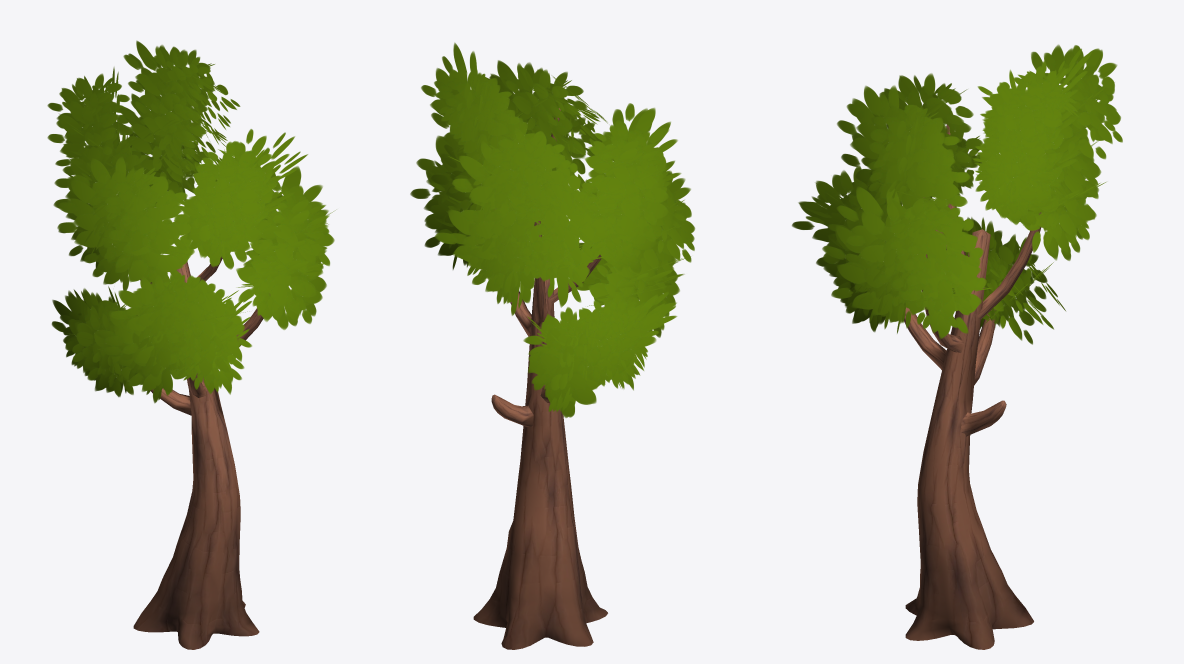
Rendered from tree_c.glb.
3 views of the same model, side by side, from view 1: azimuth 30°, elevation 25°; view 2: azimuth 150°, elevation 25°; view 3: azimuth 270°, elevation 25° (orthographic). The views are drawn at different scales.
Visible parts, largest first — view 1: CommonTree_5; view 2: CommonTree_5; view 3: CommonTree_5.
Part boxes in pixels (<box>): CommonTree_5: <box>47,40,335,649</box>; CommonTree_5: <box>410,42,694,649</box>; CommonTree_5: <box>792,44,1122,649</box>.
Size of the model in its own units: 3.67 by 7.01 by 4.22.
2 materials, 2 textured.
